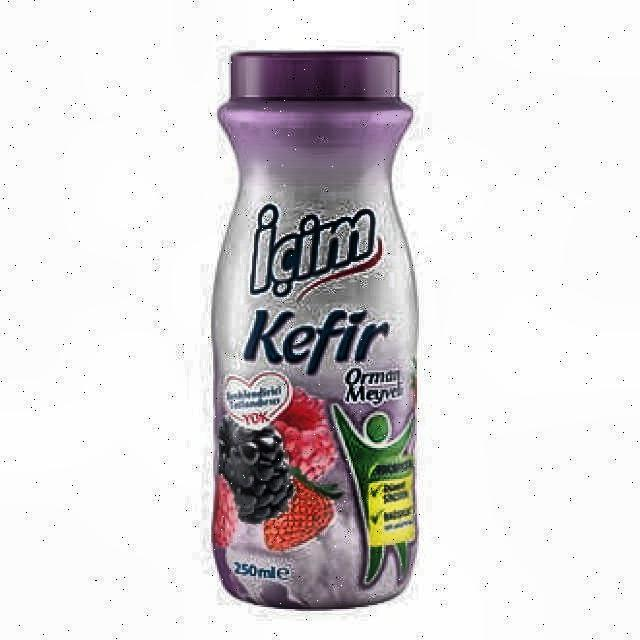plastic: (211, 49, 420, 613)
